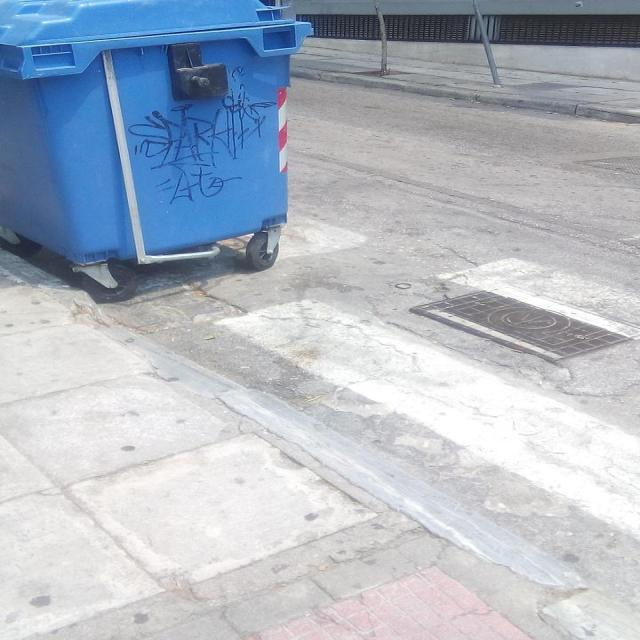nonspitting: (128, 84, 278, 204)
